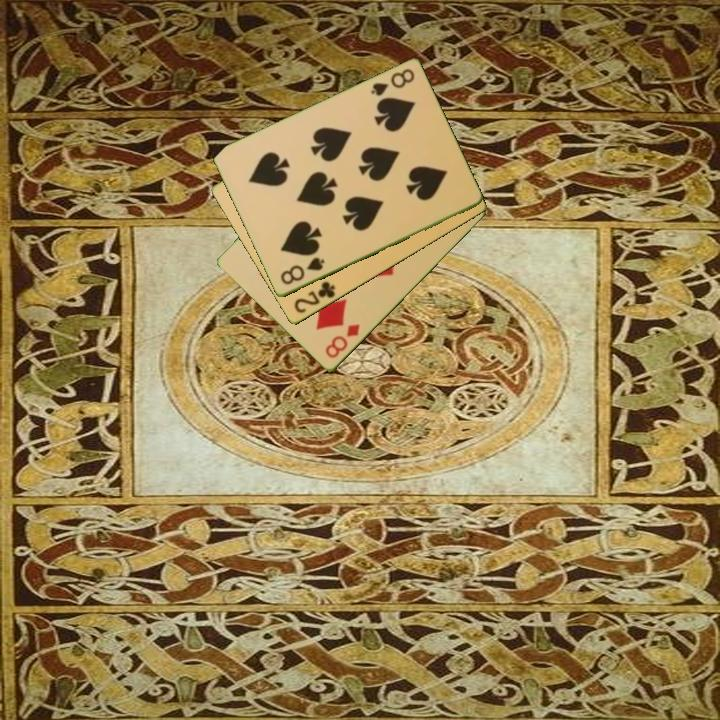2c: (290, 278, 338, 316)
8d: (322, 320, 363, 362)
8s: (277, 254, 328, 288), (367, 65, 417, 99)
